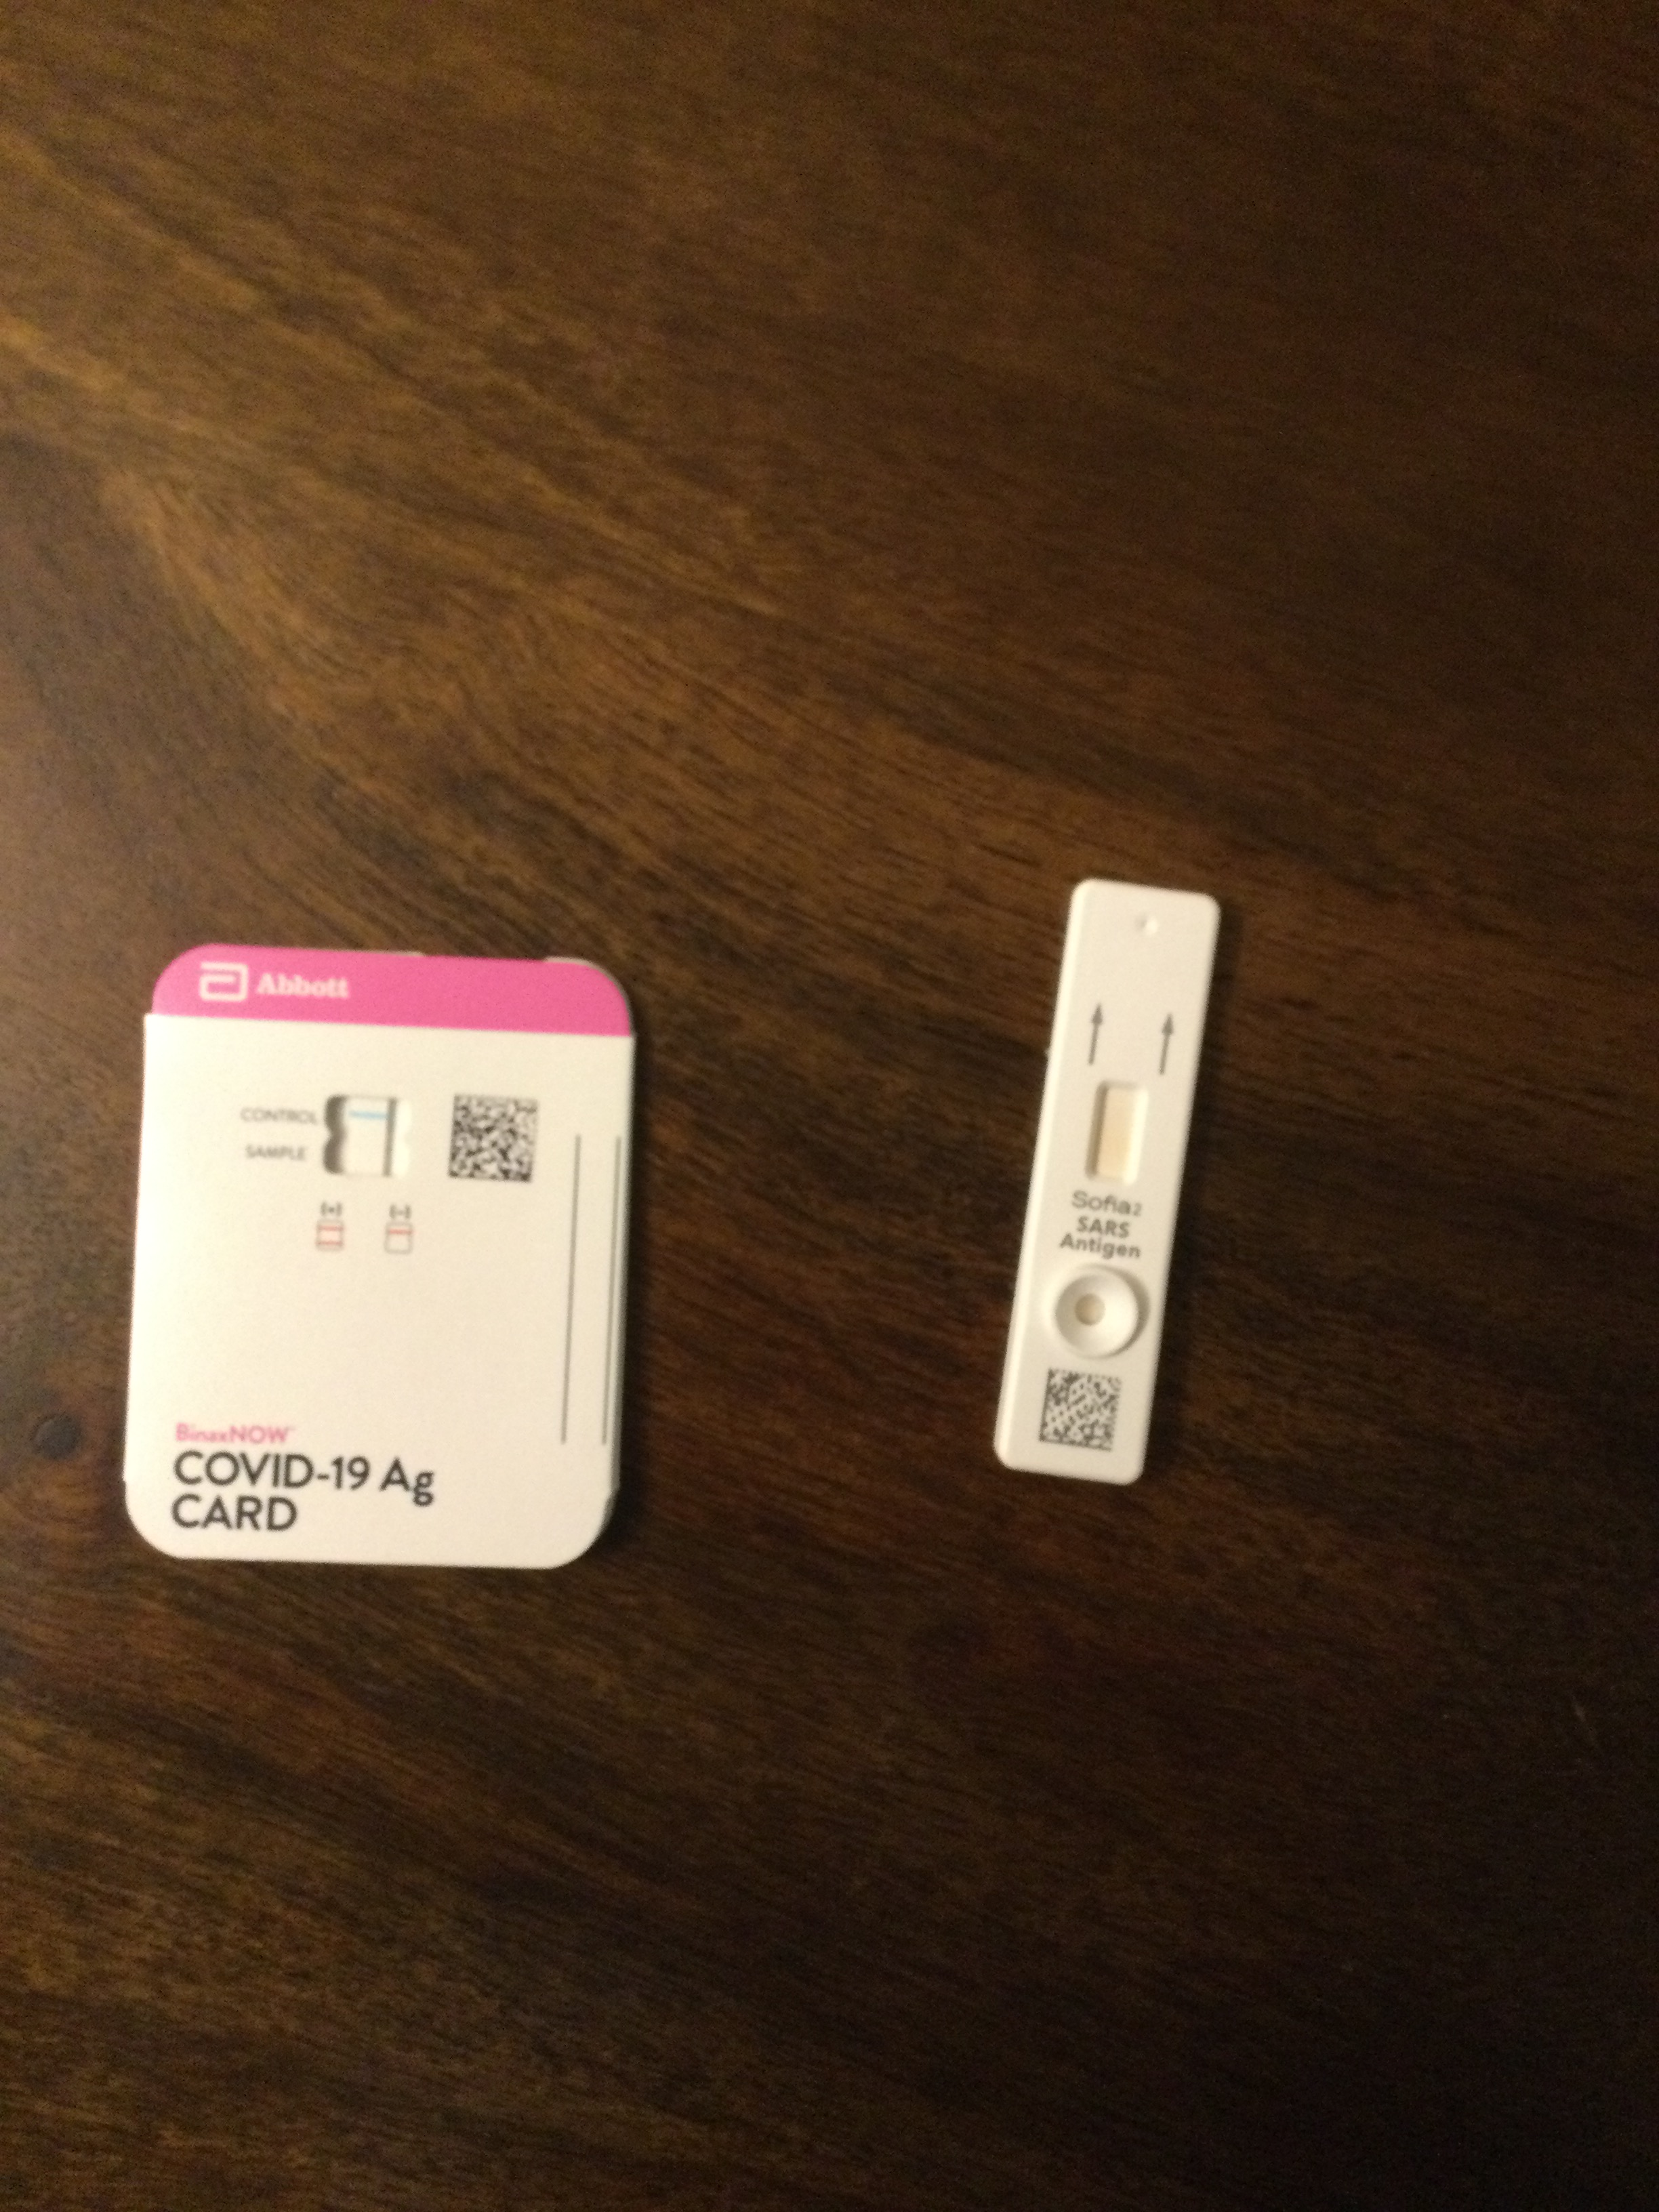binax: (119, 925, 634, 1580)
quidel: (988, 873, 1239, 1494)
